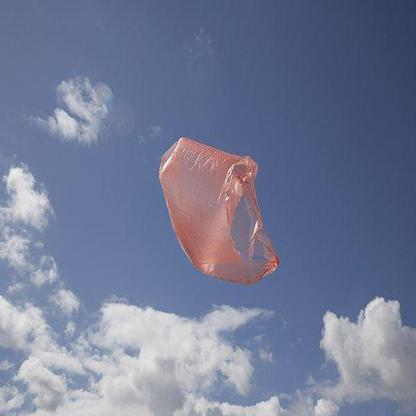plastic bag: (159, 136, 280, 286)
